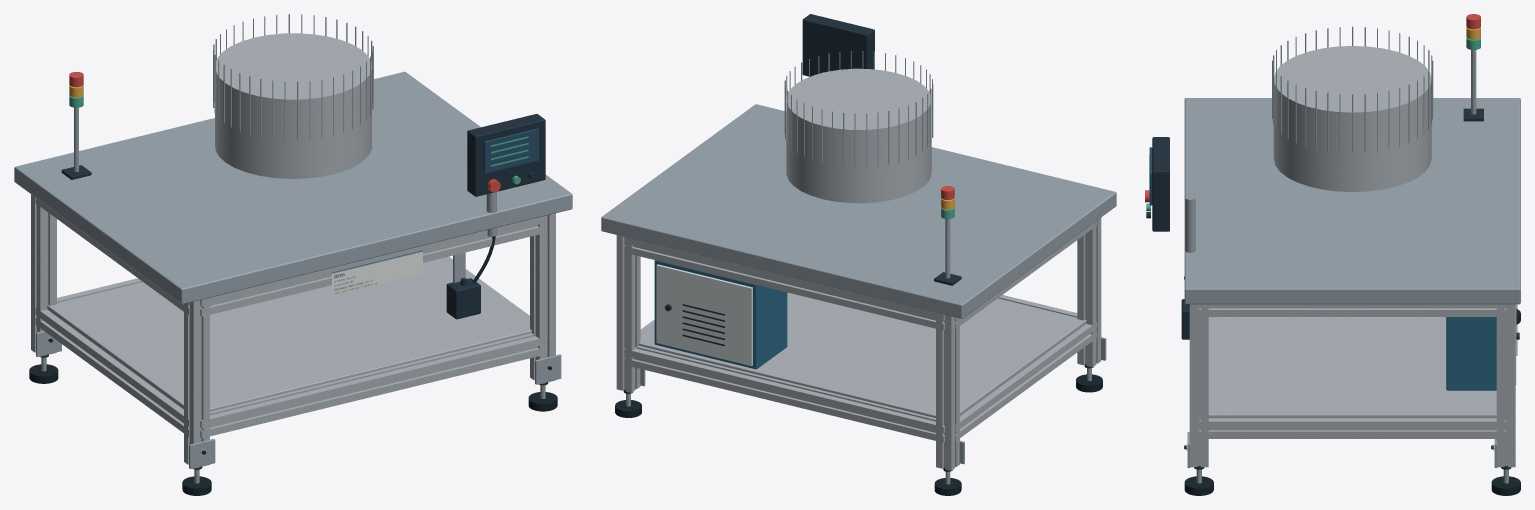
The model's file is circular-knitter-cell.glb.
3 views of the same model, side by side, from view 1: azimuth 30°, elevation 25°; view 2: azimuth 150°, elevation 25°; view 3: azimuth 270°, elevation 25° (orthographic). The views are drawn at different scales.
Parts seen in each view (by area): view 1: ClosedMachineBed_40, LowerShelf_41, CylinderTool_71, SlottedExtrusion_34, SlottedExtrusion_35, SlottedExtrusion_11, SlottedExtrusion_36, ConsoleBack_52, SlottedExtrusion_27, SlottedExtrusion_3, OriginalNameplate_65, Screen_53 (+4 smaller); view 2: ClosedMachineBed_40, LowerShelf_41, CylinderTool_71, BackDoor_43, SlottedExtrusion_32, SlottedExtrusion_33, ConsoleBack_52, SlottedExtrusion_3, SlottedExtrusion_19, Cabinet_42, SlottedExtrusion_36, SlottedExtrusion_11 (+1 smaller); view 3: ClosedMachineBed_40, LowerShelf_41, CylinderTool_71, SlottedExtrusion_38, SlottedExtrusion_39, Cabinet_42, SlottedExtrusion_27, SlottedExtrusion_19, ConsoleBack_52, ConsoleBracket_51, RubberFoot_24, RubberFoot_16.
Boxes of the visible parts, <box> form: ClosedMachineBed_40: <box>14,71,572,304</box>; LowerShelf_41: <box>47,258,531,411</box>; CylinderTool_71: <box>215,33,371,178</box>; SlottedExtrusion_34: <box>200,333,547,438</box>; SlottedExtrusion_35: <box>200,215,547,316</box>; SlottedExtrusion_11: <box>184,297,209,468</box>; SlottedExtrusion_36: <box>35,307,189,436</box>; ConsoleBack_52: <box>467,114,545,196</box>; SlottedExtrusion_27: <box>530,213,555,384</box>; SlottedExtrusion_3: <box>31,194,56,356</box>; OriginalNameplate_65: <box>332,250,422,296</box>; Screen_53: <box>484,128,538,173</box>; ClosedMachineBed_40: <box>601,104,1116,318</box>; LowerShelf_41: <box>638,292,1086,417</box>; CylinderTool_71: <box>786,68,931,203</box>; BackDoor_43: <box>656,264,752,366</box>; SlottedExtrusion_32: <box>624,346,944,442</box>; SlottedExtrusion_33: <box>624,237,944,330</box>; ConsoleBack_52: <box>802,14,874,76</box>; SlottedExtrusion_3: <box>936,313,959,470</box>; SlottedExtrusion_19: <box>616,235,640,392</box>; Cabinet_42: <box>654,260,787,369</box>; SlottedExtrusion_36: <box>955,322,1096,441</box>; SlottedExtrusion_11: <box>1077,217,1101,367</box>; ClosedMachineBed_40: <box>1184,98,1520,304</box>; LowerShelf_41: <box>1208,317,1496,418</box>; CylinderTool_71: <box>1273,46,1431,191</box>; SlottedExtrusion_38: <box>1199,418,1506,438</box>; SlottedExtrusion_39: <box>1199,304,1506,316</box>; Cabinet_42: <box>1446,317,1496,390</box>; SlottedExtrusion_27: <box>1189,304,1208,467</box>; SlottedExtrusion_19: <box>1496,304,1515,467</box>; ConsoleBack_52: <box>1152,137,1169,231</box>; ConsoleBracket_51: <box>1185,195,1195,252</box>; RubberFoot_24: <box>1184,476,1213,495</box>; RubberFoot_16: <box>1491,476,1520,495</box>.
Bounding box in the file's own units: 1.55 × 1.3 × 1.29.
Materials: 11 (3 with a texture image).
